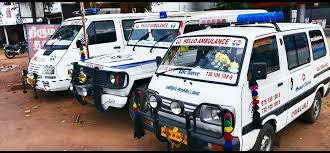ER: (140, 13, 330, 151), (70, 12, 184, 112), (27, 8, 120, 93)
